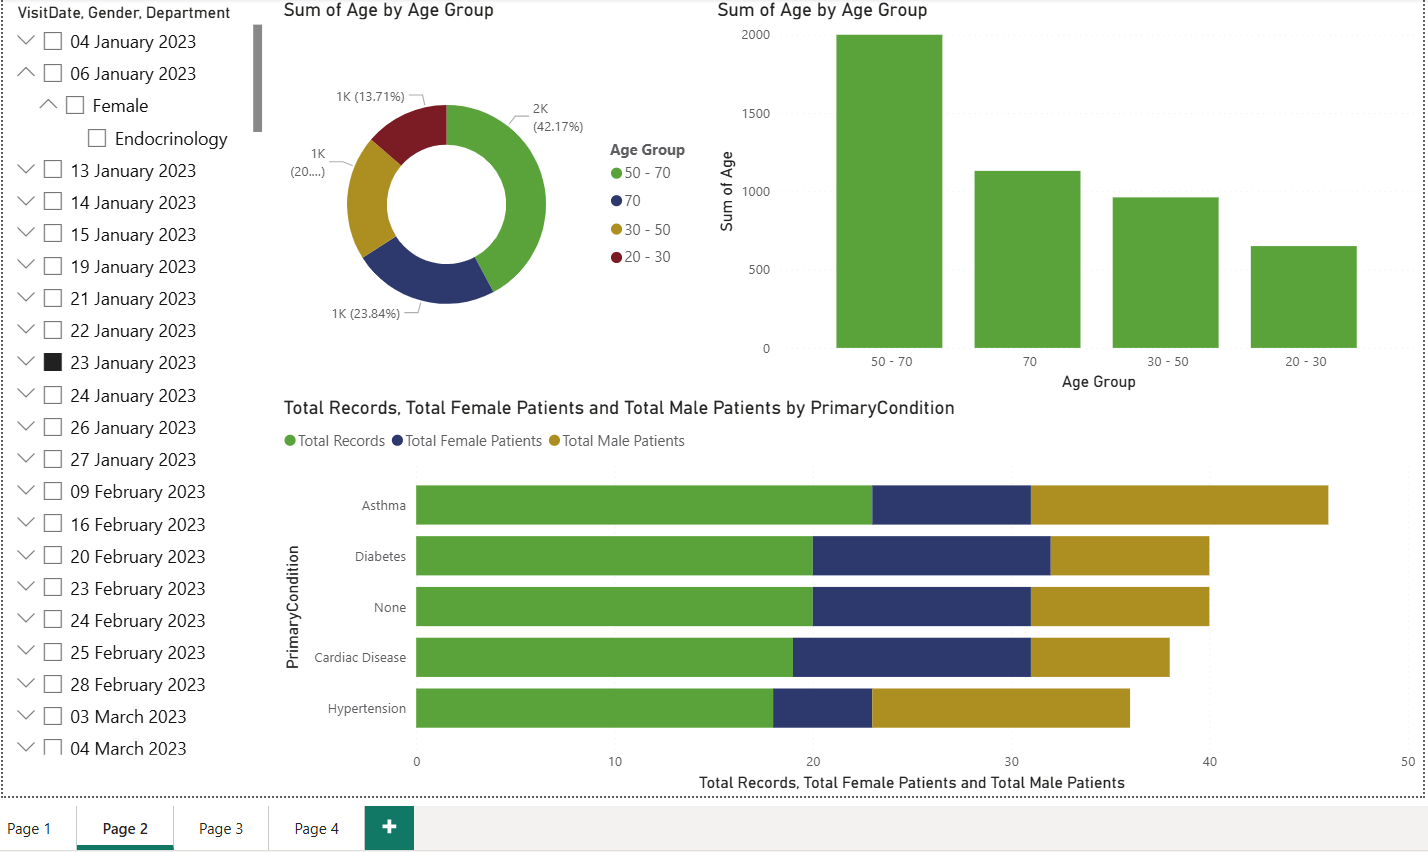

The page's visual inventory and layout, read from the dashboard file:
{"tool":"powerbi","page":{"name":"Page 2","canvas":[1280,720],"ordinal":1},"visuals":[{"type":"donutChart","fields":{"Category":["Patients.Age Group"],"Y":["Sum(Patients.Age)","select"]},"box":[248.2,0,391.3,353.4],"z":0},{"type":"barChart","fields":{"Category":["Patients.PrimaryCondition"],"Y":["Patients.Total Records","Patients.Total Female Patients","Patients.Total Male Patients"]},"box":[248.2,359.5,1030.8,360.7],"z":1000},{"type":"columnChart","fields":{"Y":["Sum(Patients.Age)"],"Category":["Patients.Age Group"]},"box":[639.5,0,640.8,359.5],"z":2000},{"type":"slicer","fields":{"Values":["Visits.VisitDate","Patients.Gender","Visits.Department"]},"box":[0,0,238.5,687.2],"z":3000}]}

Visuals, with their boxes on the page's 1280x720 design canvas (x1, y1, x2, y2). These are canvas units, not pixel positions in the 1428x852 screenshot, which may show the page scaled, cropped or inside an application window:
donutChart - Patients.Age Group x Sum(Patients.Age): pyautogui.locateOnScreen(248, 0, 640, 353)
barChart - Patients.PrimaryCondition x Patients.Total Records: pyautogui.locateOnScreen(248, 360, 1279, 720)
columnChart - Sum(Patients.Age) x Patients.Age Group: pyautogui.locateOnScreen(640, 0, 1280, 360)
slicer - Visits.VisitDate x Patients.Gender: pyautogui.locateOnScreen(0, 0, 238, 687)
